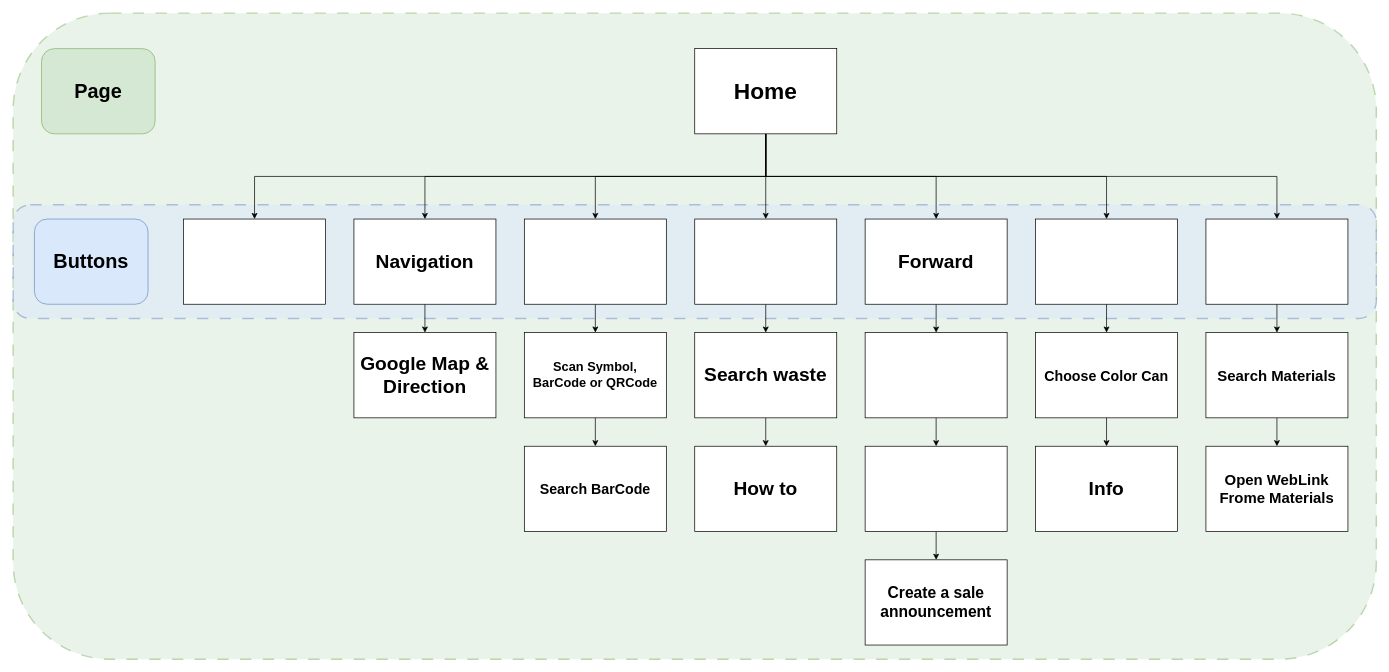
Image size: 1389x672. Some labels were removed from this diagram. Each missing label, with the centre of its shape:
"Choose Material" belongs at point 935,488.
"Enter Ur Tel." belongs at point 935,375.
"How to separate waste" belongs at point 765,261.
"Recycled Materials" belongs at point 1276,261.
"Search Page" belongs at point 254,261.
"Trash can color" belongs at point 1106,261.
"Waste Separation" belongs at point 595,261.
